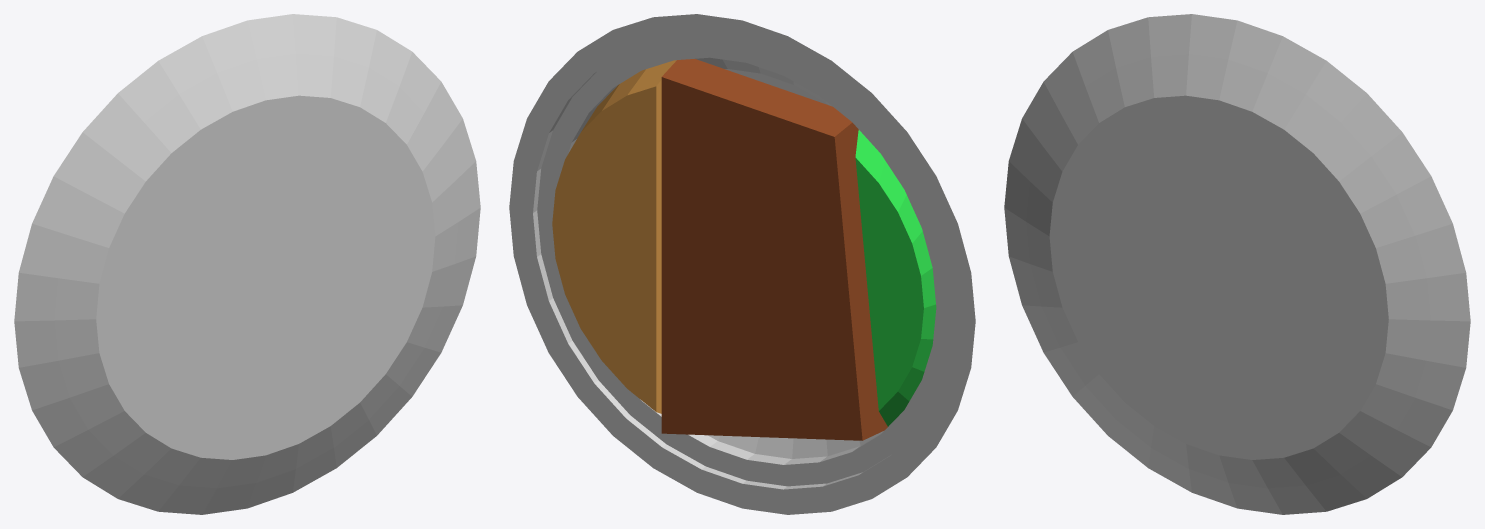
The model's file is torukoraisu.fbx.
The picture shows the model from 3 angles, left to right: view 1: azimuth 30°, elevation 25°; view 2: azimuth 150°, elevation 25°; view 3: azimuth 330°, elevation 25°; orthographic projection.
Parts seen in each view (by area): view 1: Circle; view 2: Circle; view 3: Circle.
Boxes of the visible parts, x1,y1,x2,y2 form: Circle: (14,14,480,514); Circle: (509,14,975,514); Circle: (1004,14,1470,514).
Size of the model in its own units: 826 by 826 by 89.8.
